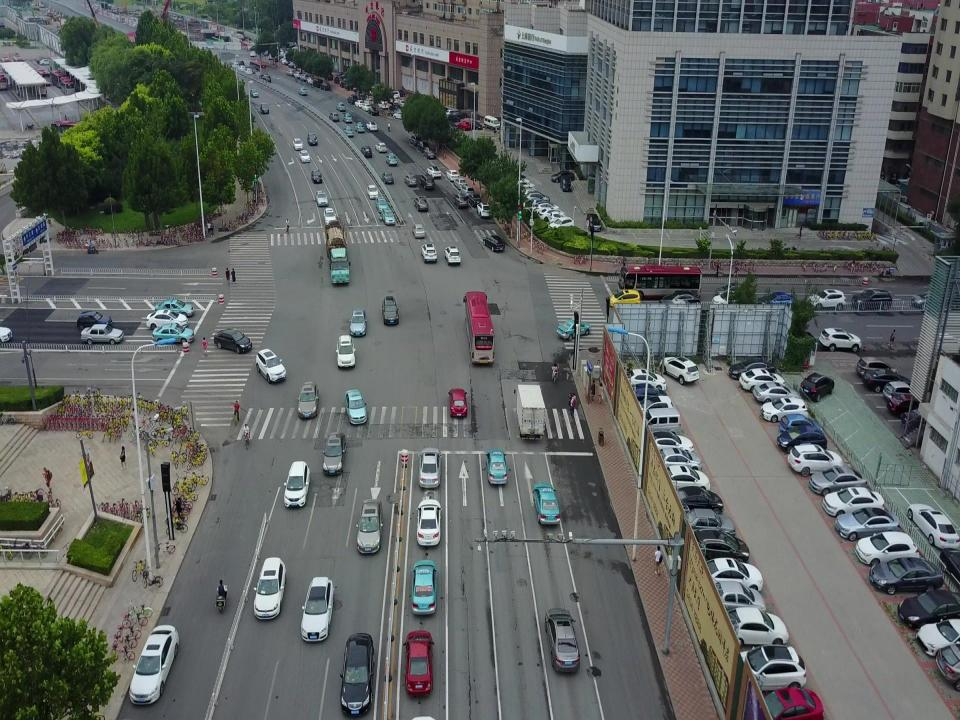bus: (616, 266, 702, 299), (462, 290, 494, 365), (51, 120, 89, 144), (28, 76, 48, 97), (60, 76, 76, 98), (34, 68, 52, 86), (249, 60, 267, 75), (50, 69, 64, 88), (0, 56, 12, 73), (13, 55, 25, 69)
car: (128, 624, 179, 707), (727, 643, 807, 691), (715, 606, 789, 648), (339, 632, 375, 716), (869, 556, 943, 595), (906, 502, 960, 548), (897, 590, 960, 628), (544, 607, 580, 673), (854, 531, 920, 567), (700, 557, 764, 594), (300, 575, 334, 643), (753, 686, 825, 718), (834, 506, 901, 540), (708, 581, 766, 619), (253, 557, 287, 620), (693, 528, 751, 564), (404, 630, 434, 695), (823, 486, 885, 517), (668, 485, 724, 518), (682, 508, 737, 541), (809, 465, 867, 496), (788, 444, 843, 476), (916, 617, 960, 656), (411, 558, 439, 616), (355, 498, 383, 555), (661, 464, 711, 494), (777, 424, 827, 453), (282, 460, 312, 508), (760, 397, 808, 423), (657, 447, 703, 474), (659, 356, 699, 386), (533, 482, 561, 524), (417, 498, 442, 545), (255, 348, 287, 384), (863, 369, 913, 392), (753, 381, 802, 404), (650, 431, 695, 456), (637, 395, 677, 423), (213, 327, 253, 355), (799, 371, 835, 402), (623, 369, 667, 394), (818, 327, 862, 352), (740, 369, 786, 392), (417, 446, 442, 488), (322, 431, 346, 474), (886, 393, 927, 418), (901, 406, 941, 431), (729, 358, 776, 379), (779, 413, 821, 435), (856, 357, 898, 379), (80, 324, 124, 345), (152, 323, 194, 344), (145, 308, 189, 328), (712, 288, 753, 309), (297, 381, 320, 418), (344, 389, 368, 424), (556, 317, 591, 341), (852, 288, 892, 309), (808, 288, 846, 310), (485, 448, 507, 485), (334, 334, 357, 369), (633, 382, 669, 404), (154, 298, 194, 317), (77, 310, 113, 331), (882, 380, 916, 402), (662, 290, 700, 309), (913, 290, 947, 311), (714, 282, 751, 301), (758, 292, 796, 310), (448, 388, 468, 417), (609, 290, 641, 308), (382, 295, 399, 325), (349, 308, 367, 336), (538, 207, 566, 222), (549, 216, 574, 232), (483, 235, 505, 252), (534, 201, 560, 214), (444, 246, 461, 265), (421, 243, 437, 263), (524, 192, 550, 204), (550, 170, 574, 183), (586, 213, 602, 231), (476, 202, 492, 219), (323, 207, 337, 226), (530, 198, 550, 210), (315, 190, 329, 207), (414, 195, 428, 211), (382, 208, 395, 225), (513, 180, 535, 190), (412, 223, 426, 238), (468, 193, 482, 207), (426, 166, 442, 178), (376, 196, 388, 212), (549, 211, 563, 224), (454, 177, 468, 190), (404, 173, 417, 187), (523, 188, 539, 199), (367, 185, 379, 199), (311, 170, 323, 184), (469, 119, 483, 131), (443, 120, 458, 131), (446, 170, 459, 182), (382, 171, 394, 184), (299, 150, 311, 163), (423, 146, 435, 159), (456, 120, 471, 130), (386, 154, 398, 166), (360, 146, 372, 158), (417, 140, 429, 152), (409, 134, 421, 146), (389, 108, 404, 117), (375, 142, 387, 153), (354, 122, 366, 133), (343, 125, 354, 137), (307, 132, 317, 145), (444, 114, 460, 122), (451, 111, 467, 119), (392, 112, 408, 120), (366, 121, 378, 131), (328, 112, 340, 122), (293, 138, 303, 150), (347, 94, 357, 105), (342, 112, 352, 122), (336, 102, 346, 112), (320, 81, 330, 91), (260, 102, 269, 113), (354, 99, 365, 108), (386, 91, 400, 98), (367, 108, 379, 116), (390, 96, 402, 104), (298, 86, 308, 95), (397, 99, 407, 108), (445, 109, 457, 116), (393, 90, 405, 97), (250, 88, 259, 97), (378, 101, 388, 109), (364, 97, 374, 105), (235, 60, 245, 68), (37, 58, 48, 65), (39, 59, 51, 65), (300, 73, 308, 82), (262, 75, 271, 83), (285, 69, 295, 76), (294, 70, 302, 78), (244, 68, 252, 76), (249, 46, 259, 52), (306, 77, 314, 84), (253, 72, 261, 79), (238, 65, 246, 72), (231, 62, 239, 69), (250, 50, 256, 56)
truck: (514, 384, 546, 440), (324, 224, 350, 283)
van: (641, 408, 681, 436), (419, 174, 435, 189), (484, 115, 500, 129), (460, 184, 475, 197), (560, 175, 572, 191), (312, 78, 323, 88), (360, 103, 372, 112)
